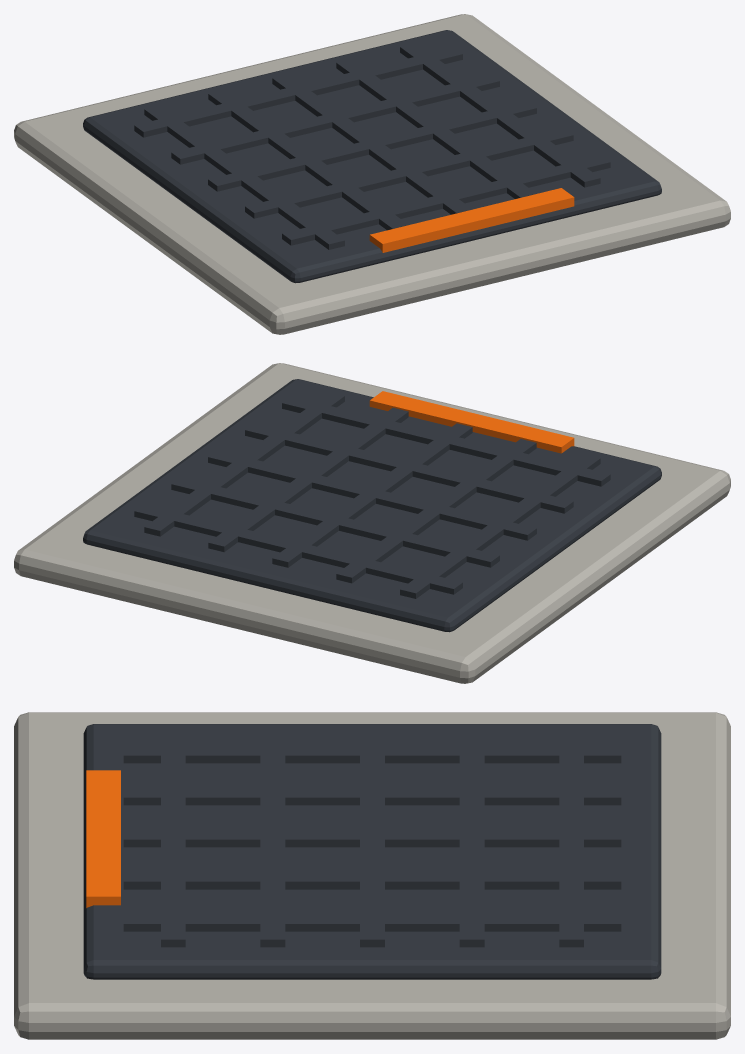
Rendered from manhole.glb.
The picture shows the model from 3 angles, top to bottom: view 1: azimuth 30°, elevation 25°; view 2: azimuth 150°, elevation 25°; view 3: azimuth 270°, elevation 25°; orthographic projection. The views are drawn at different scales.
Parts seen in each view (by area): view 1: manhole; view 2: manhole; view 3: manhole.
Boxes of the visible parts, bbox=[...] form: manhole: bbox=[14, 14, 730, 334]; manhole: bbox=[14, 363, 730, 683]; manhole: bbox=[14, 712, 730, 1039].
Size of the model in its own units: 0.72 by 0.067 by 0.72.
